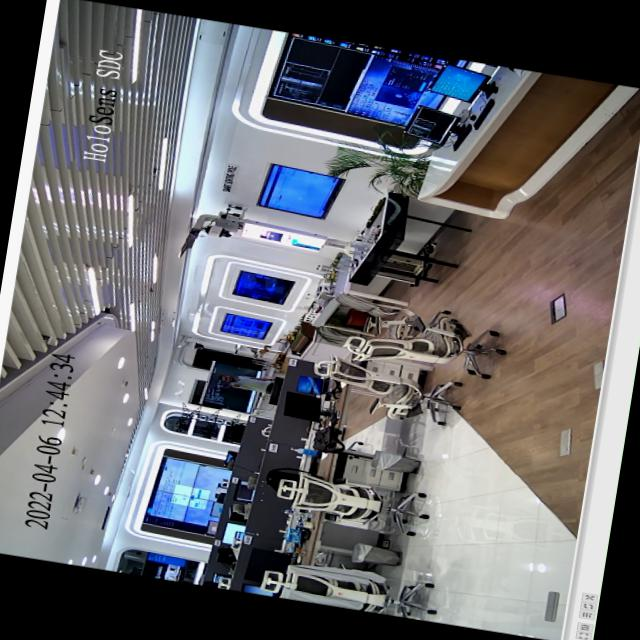long weapon: (212, 376, 254, 400)
